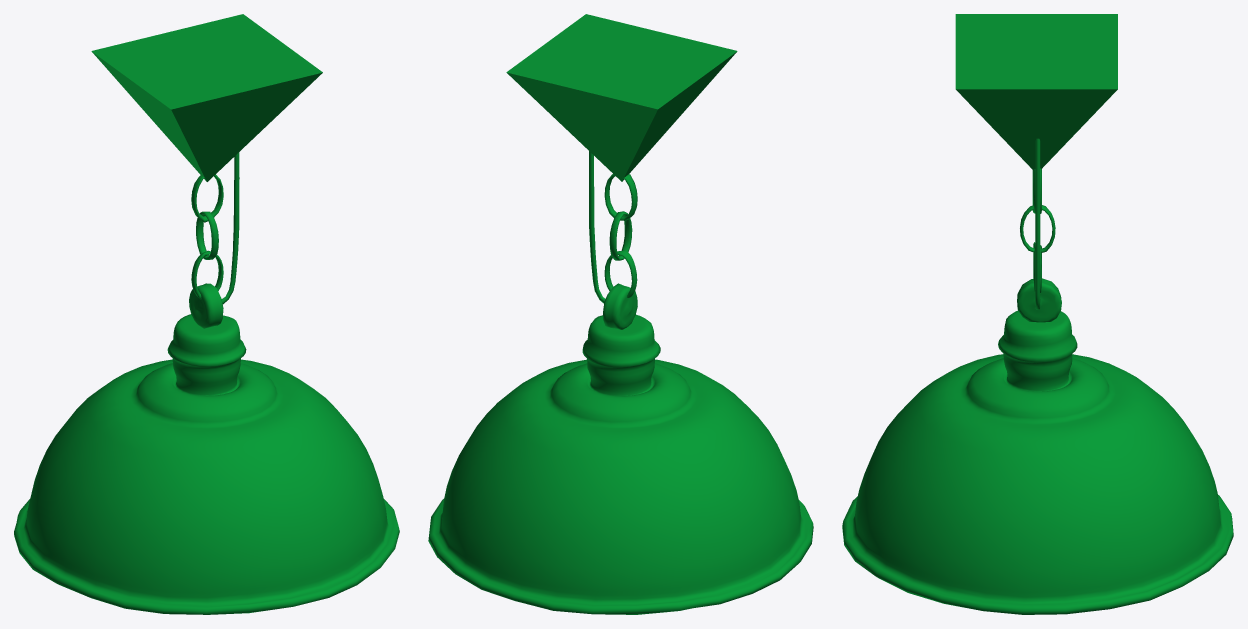
Rendered from KitchenLamp.fbx.
The picture shows the model from 3 angles, left to right: view 1: azimuth 30°, elevation 25°; view 2: azimuth 150°, elevation 25°; view 3: azimuth 270°, elevation 25°; orthographic projection.
Parts seen in each view (by area): view 1: lampe001; view 2: lampe001; view 3: lampe001.
Boxes of the visible parts, box(x1,y1,x2,y2) form: lampe001: box(14, 14, 399, 614); lampe001: box(428, 14, 813, 614); lampe001: box(842, 14, 1233, 614).
Bounding box in the file's own units: 76 × 103 × 76.13.
